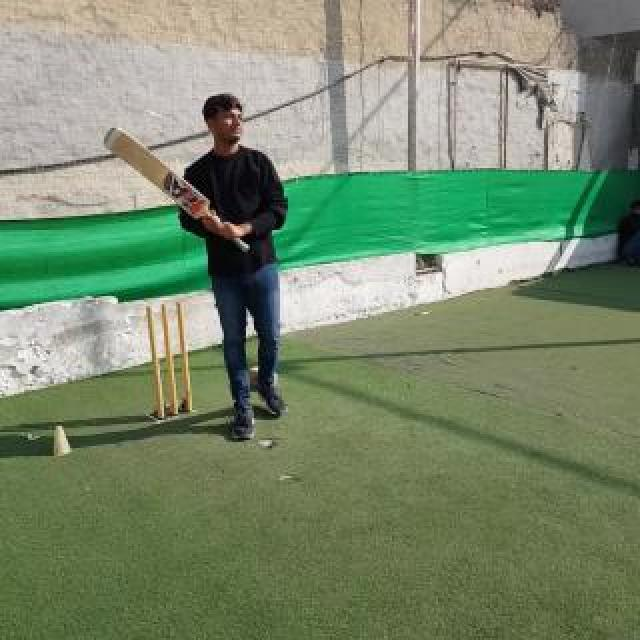bat: (104, 126, 252, 252)
